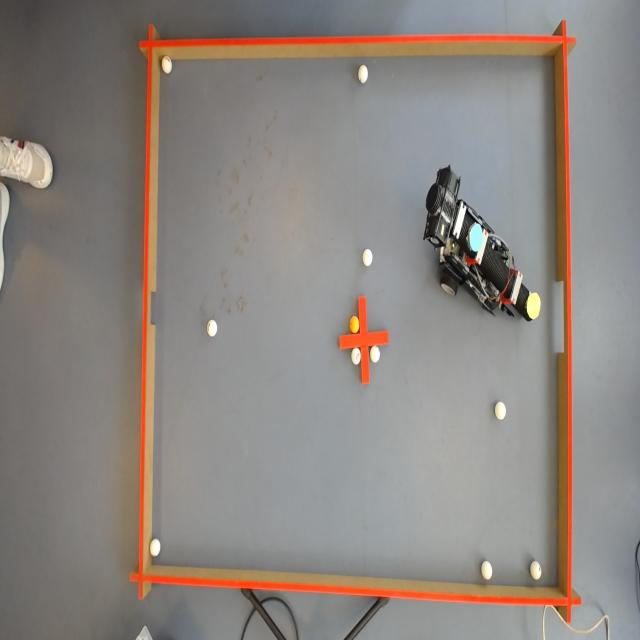orange: (348, 314, 358, 332)
robot: (420, 178, 545, 326)
robot-front: (526, 291, 541, 321)
robot-rear: (468, 222, 484, 252)
white: (529, 560, 544, 583), (481, 561, 494, 583), (357, 64, 369, 86), (149, 538, 161, 558), (496, 402, 508, 421), (206, 319, 217, 338), (370, 344, 381, 362), (161, 55, 174, 70), (363, 250, 375, 266), (350, 347, 360, 365)
